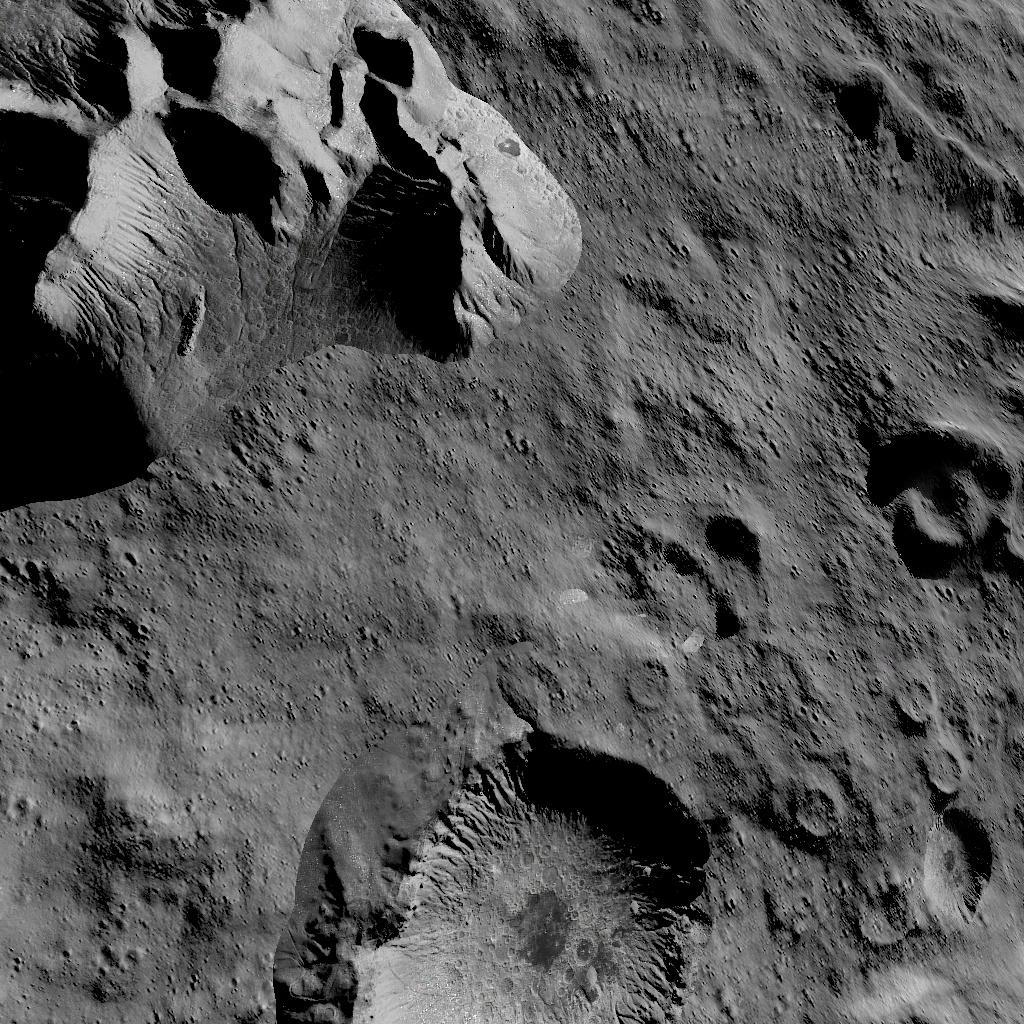Boulders: (0, 0, 596, 517)
Crater: (313, 726, 765, 1024), (872, 420, 1024, 584), (696, 510, 778, 638), (923, 812, 1007, 928), (790, 780, 854, 850), (857, 880, 914, 946), (886, 671, 950, 729), (918, 744, 979, 804), (624, 651, 686, 708)
Plan surface: (0, 530, 299, 1024), (602, 152, 997, 398), (309, 526, 616, 716)
